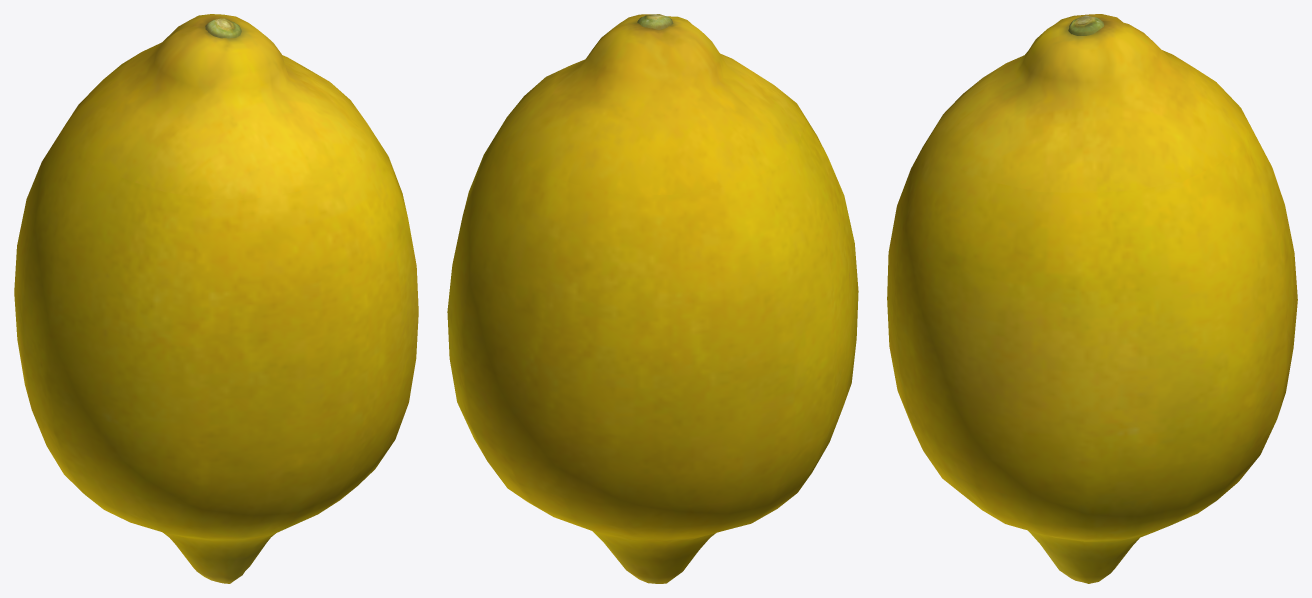
The model's file is Deraumere.glb.
3 renders of one model, left to right at view 1: azimuth 30°, elevation 25°; view 2: azimuth 150°, elevation 25°; view 3: azimuth 270°, elevation 25°, orthographic.
Parts seen in each view (by area): view 1: Deraumere; view 2: Deraumere; view 3: Deraumere.
Boxes of the visible parts, bbox=[...] form: Deraumere: bbox=[14, 14, 418, 583]; Deraumere: bbox=[447, 14, 858, 583]; Deraumere: bbox=[887, 14, 1297, 583].
Size of the model in its own units: 0.5688 by 0.8804 by 0.5814.
1 material, 1 textured.
